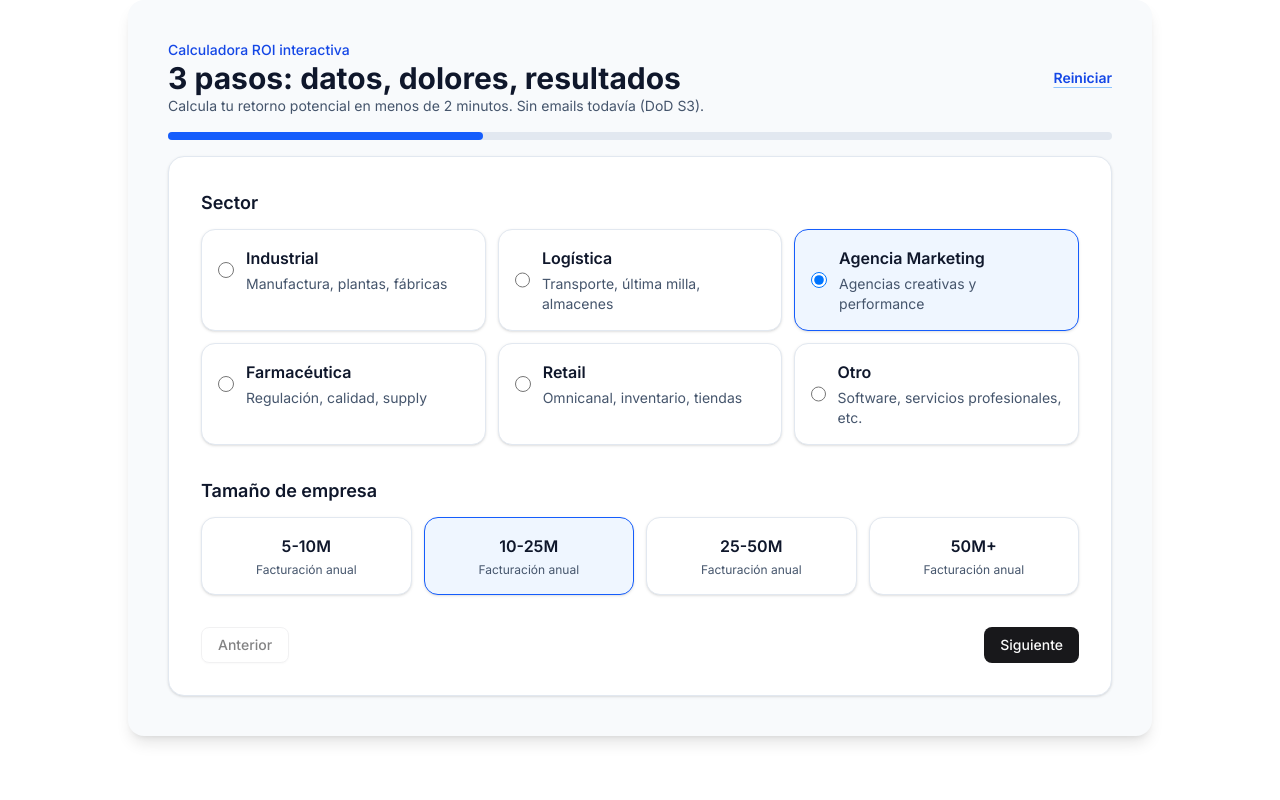
Test case: ROICalculator wizard › calcula escenario cloud y muestra resultados + form email
Click the radio button labelled "Industrial Manufactura, plantas, fábricas" at (226, 270), box [218,262,234,278]
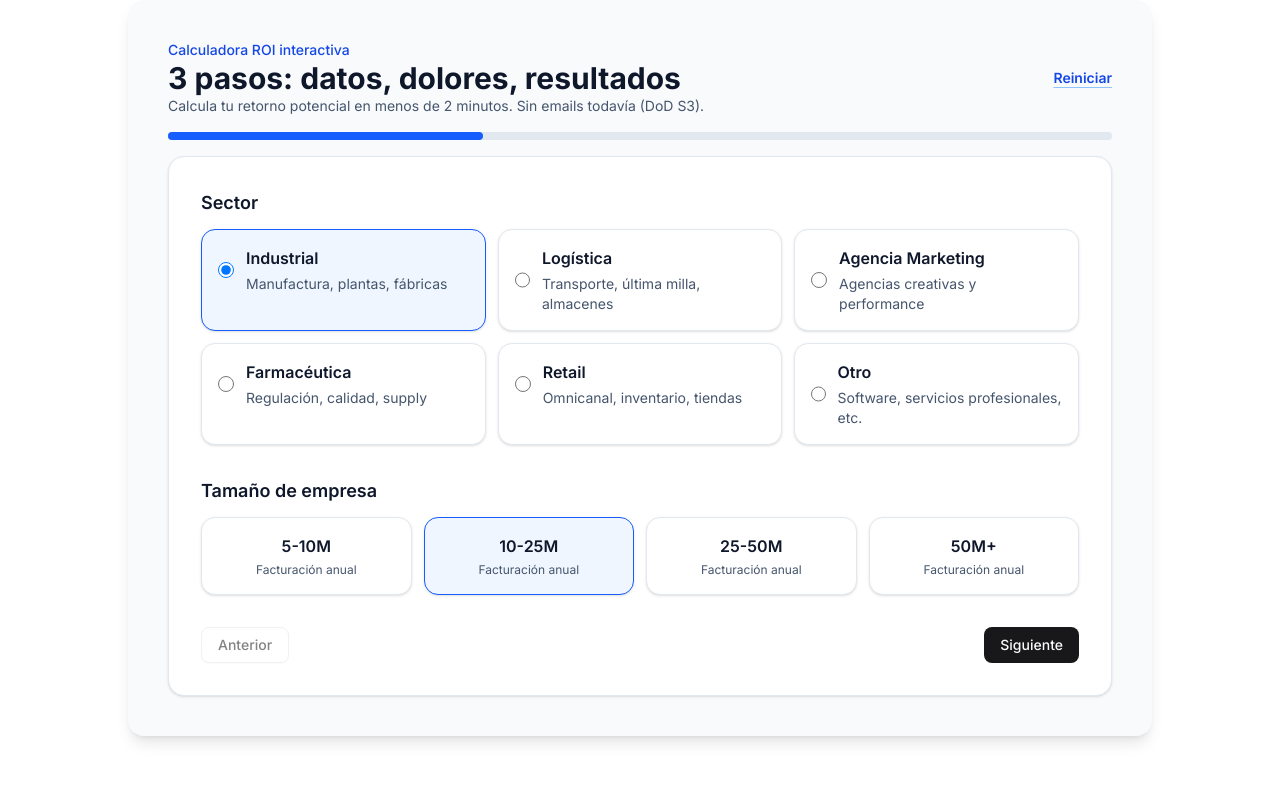
Click the radio button labelled "5-10M Facturación anual" at (306, 556), box [201,517,412,595]
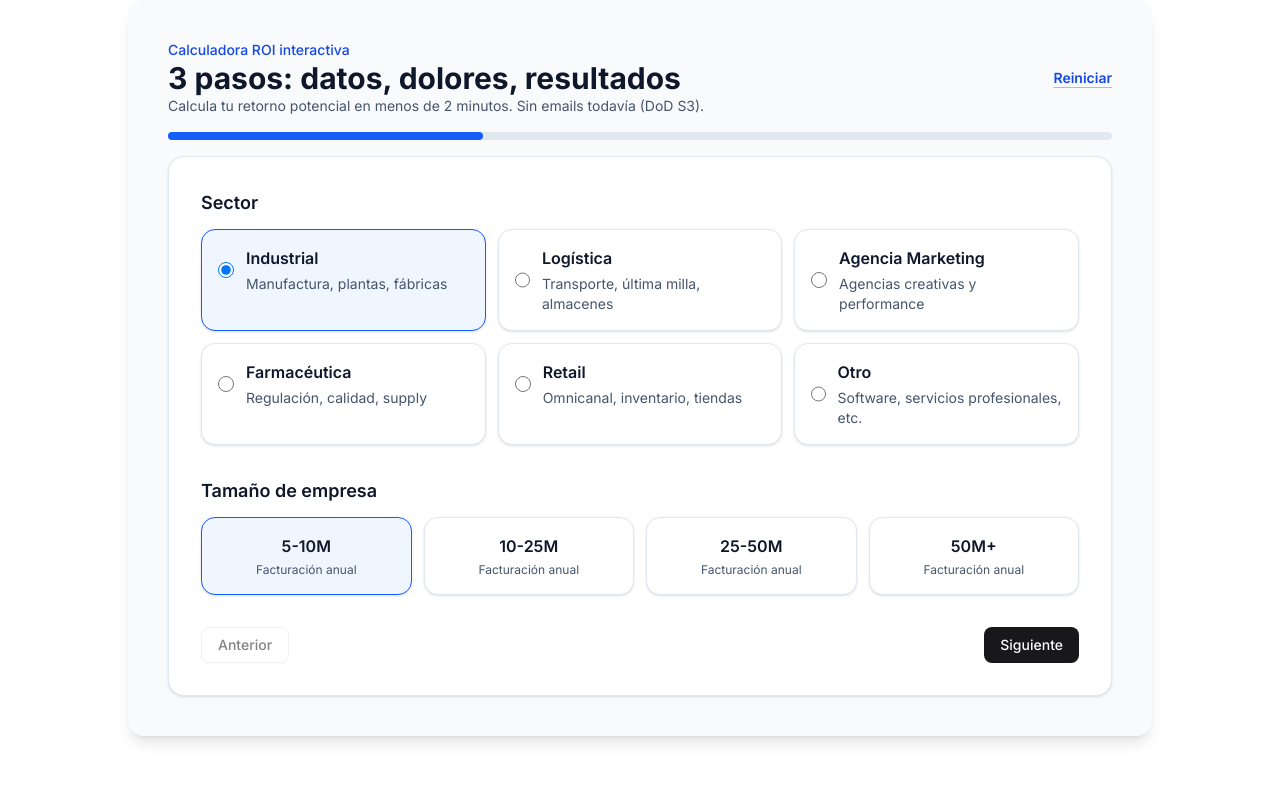
Click the button "Siguiente" at (1032, 645), box [984,627,1079,663]
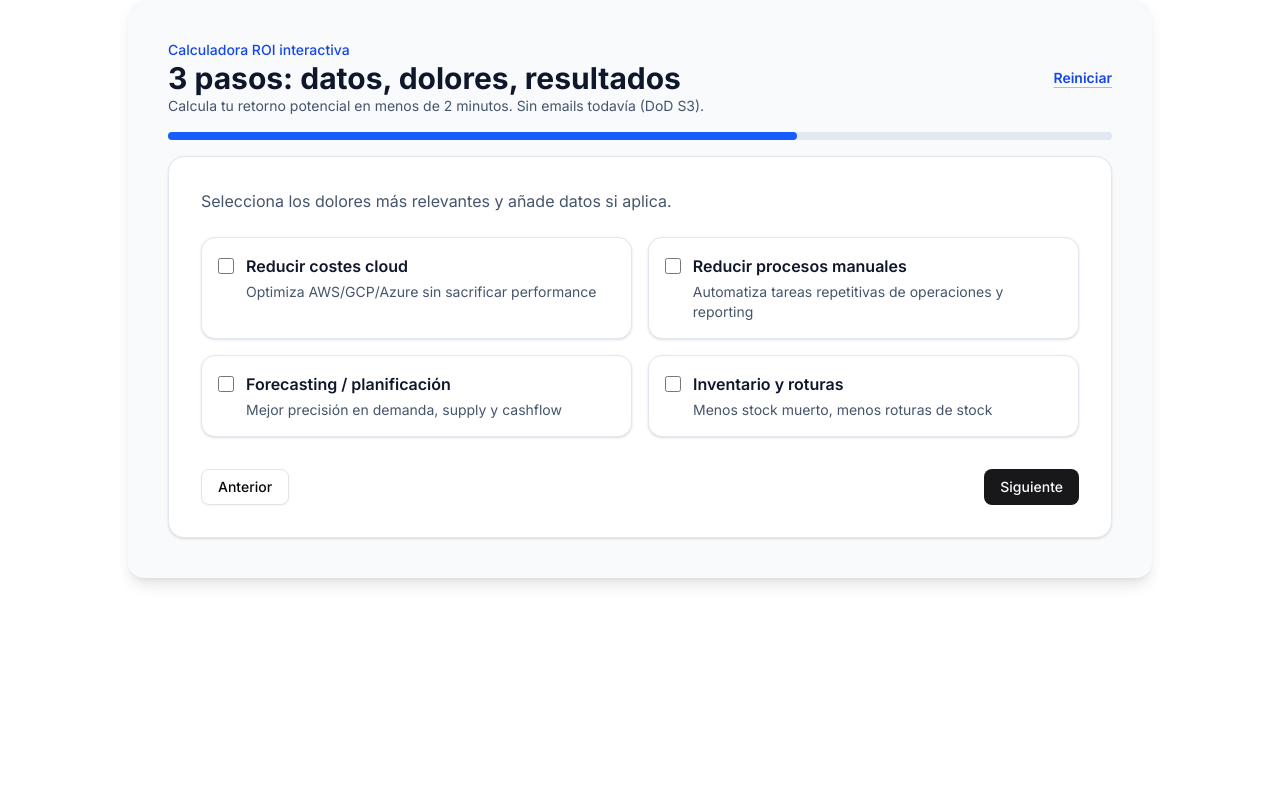
Click the checkbox labelled "Reducir costes cloud" at (226, 266), box [218,258,234,274]
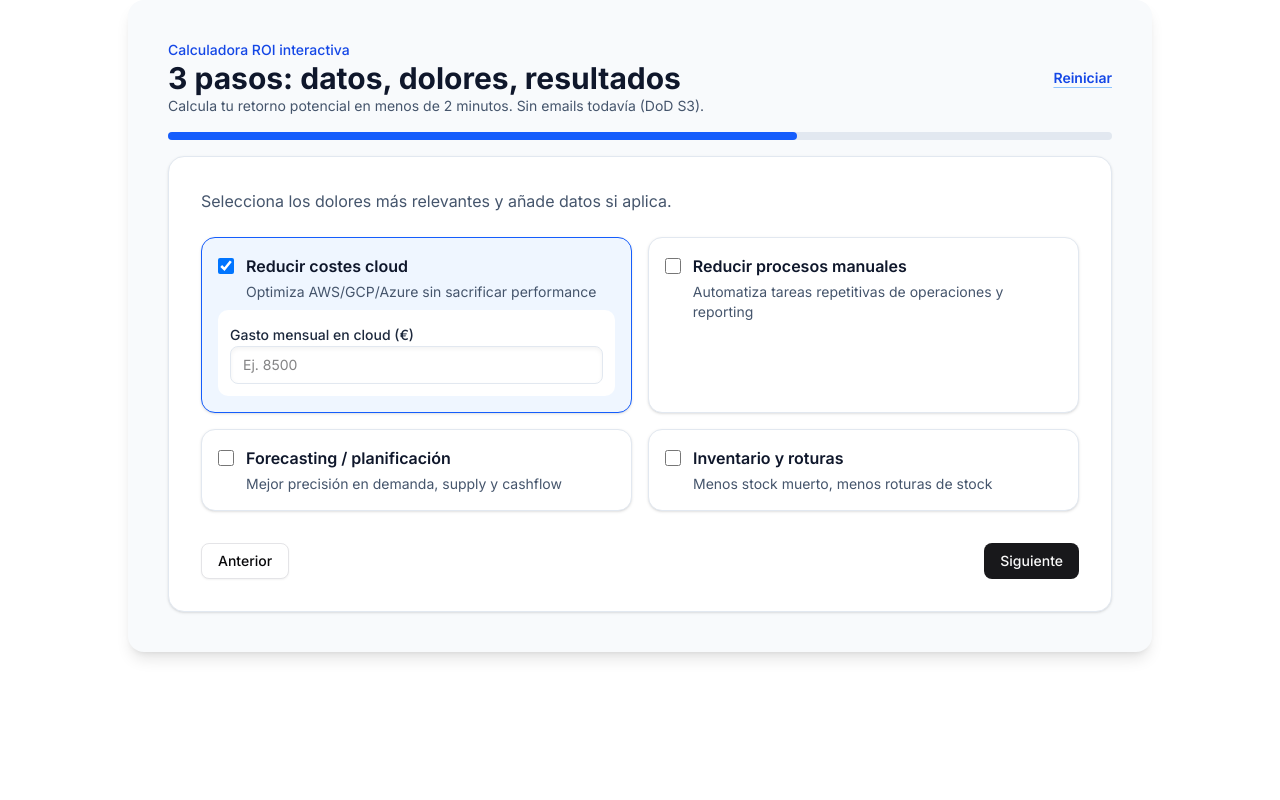
Type "4000" into the number field labelled "Gasto mensual en cloud (€)" at (416, 365), box [230,346,603,384]
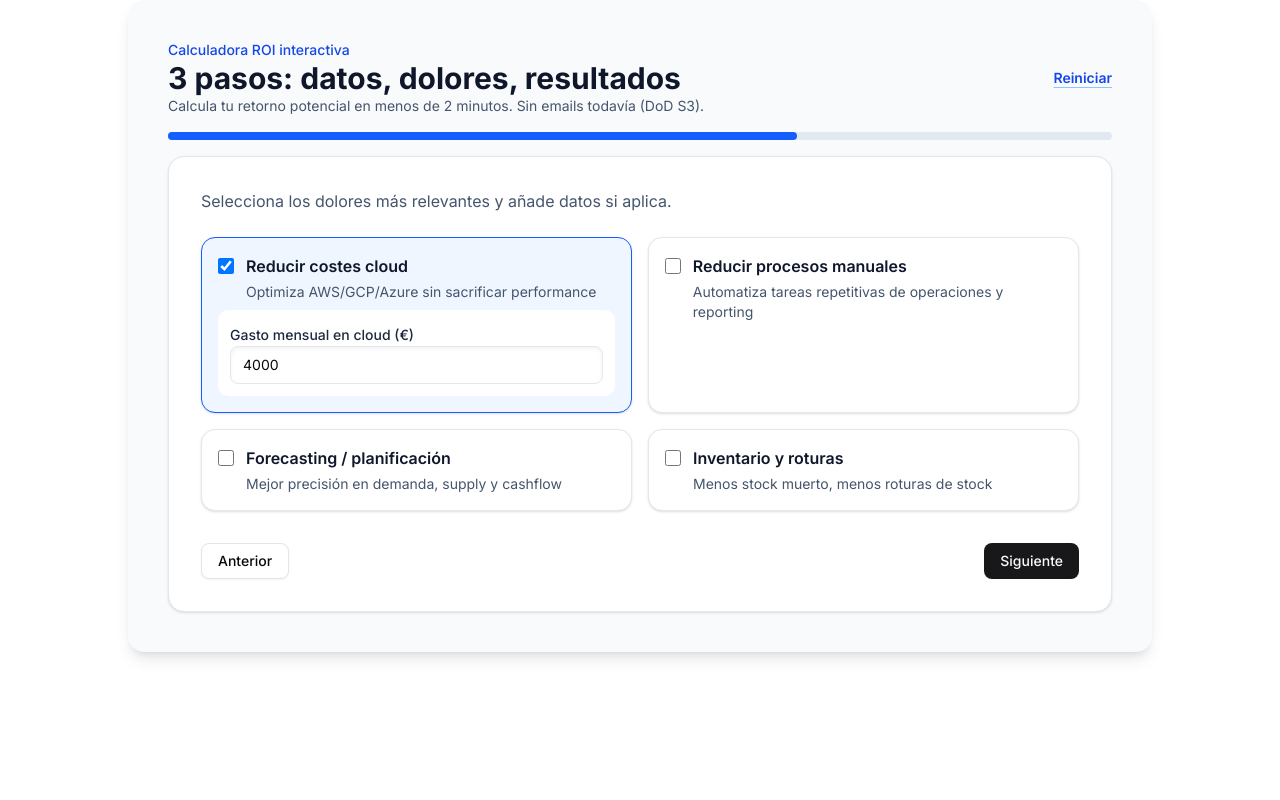
Click the button "Siguiente" at (1032, 561), box [984,543,1079,579]
(page scrolled)
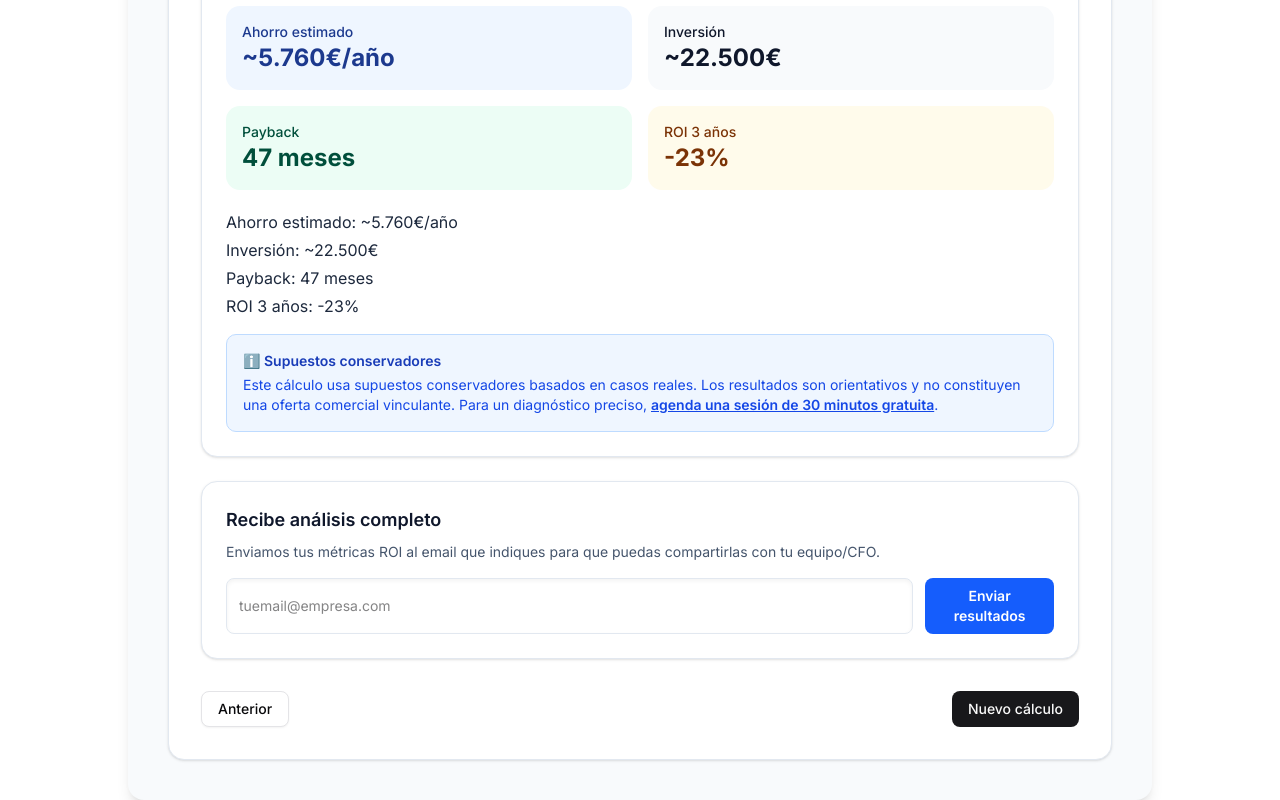
Expected: the text "Ahorro estimado: ~5.760€/año" is shown, [226,212,458,232]
Expected: the text "Inversión: ~22.500€" is shown, [226,240,378,260]
Expected: the text "Payback: 47 meses" is shown, [226,268,374,288]
